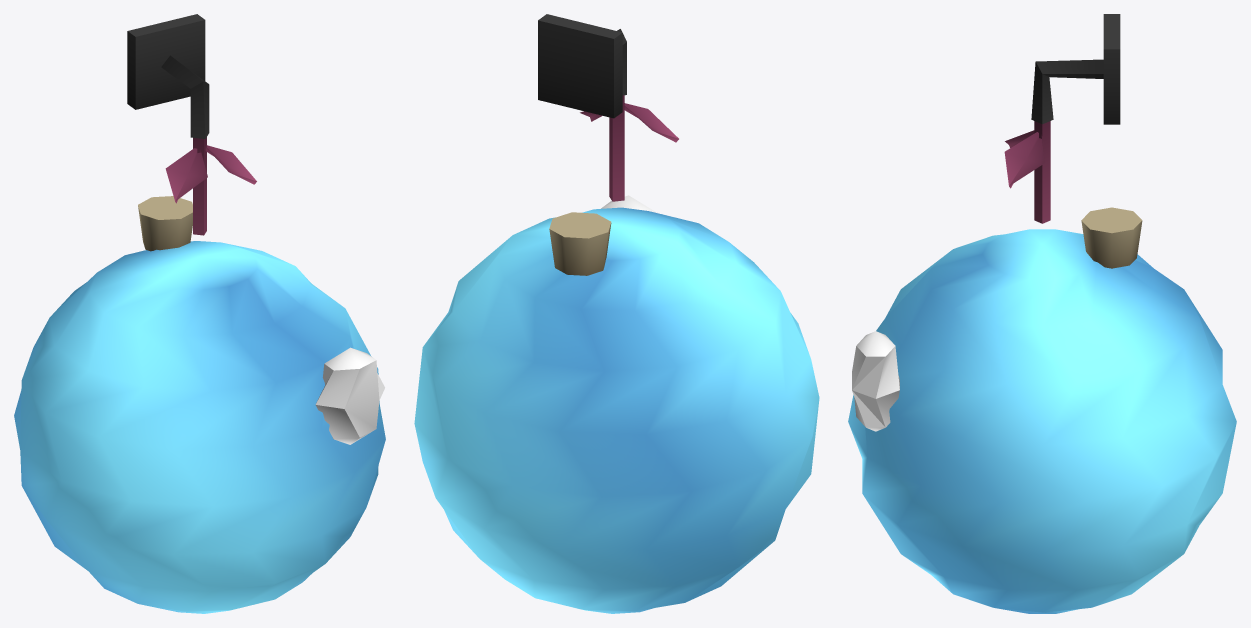
The model's file is witch_ball.glb.
The picture shows the model from 3 angles, left to right: view 1: azimuth 30°, elevation 25°; view 2: azimuth 150°, elevation 25°; view 3: azimuth 270°, elevation 25°; orthographic projection. The views are drawn at different scales.
Visible parts, largest first — view 1: witch_ball_glow, witch_ball; view 2: witch_ball_glow, witch_ball; view 3: witch_ball_glow, witch_ball.
Boxes of the visible parts, x1,y1,x2,y2 form: witch_ball_glow: (14, 241, 385, 613); witch_ball: (127, 14, 384, 444); witch_ball_glow: (414, 207, 819, 613); witch_ball: (538, 14, 678, 275); witch_ball_glow: (848, 229, 1236, 613); witch_ball: (852, 14, 1142, 431).
Size of the model in its own units: 0.273 by 0.45 by 0.28.
